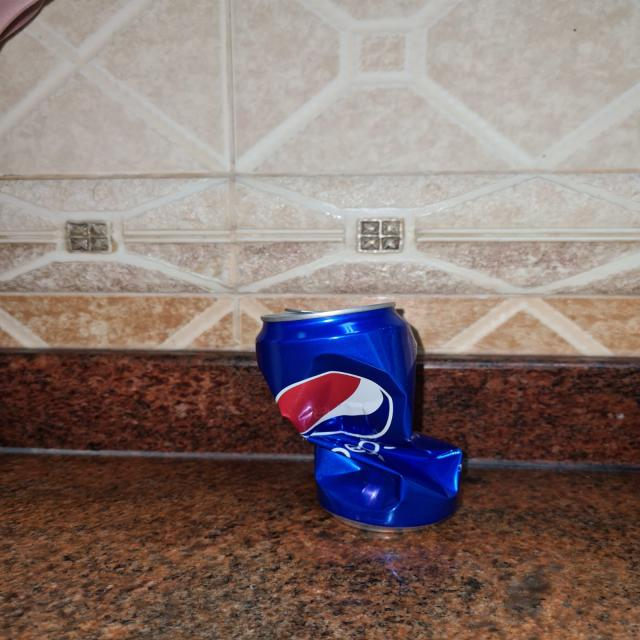non-organic waste: (250, 302, 469, 532)
